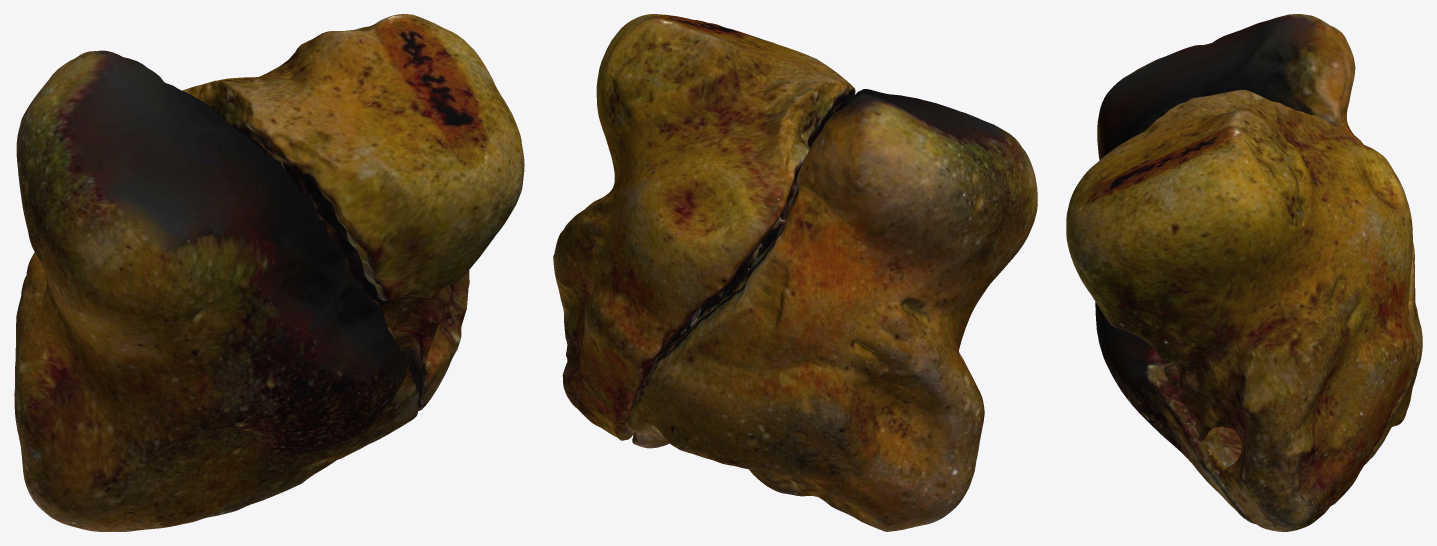
File: SAS2159FB2019.fbx
The picture shows the model from 3 angles, left to right: view 1: azimuth 30°, elevation 25°; view 2: azimuth 150°, elevation 25°; view 3: azimuth 270°, elevation 25°; orthographic projection. The views are drawn at different scales.
Visible parts, largest first — view 1: SAS2159FB2019_LOD00; view 2: SAS2159FB2019_LOD00; view 3: SAS2159FB2019_LOD00.
Boxes of the visible parts, <box> form: SAS2159FB2019_LOD00: <box>14,14,524,531</box>; SAS2159FB2019_LOD00: <box>553,14,1037,531</box>; SAS2159FB2019_LOD00: <box>1066,14,1422,531</box>.
Size of what is drawn, in the model's own units: 6414 by 6288 by 4786.
1 material, 1 textured.
